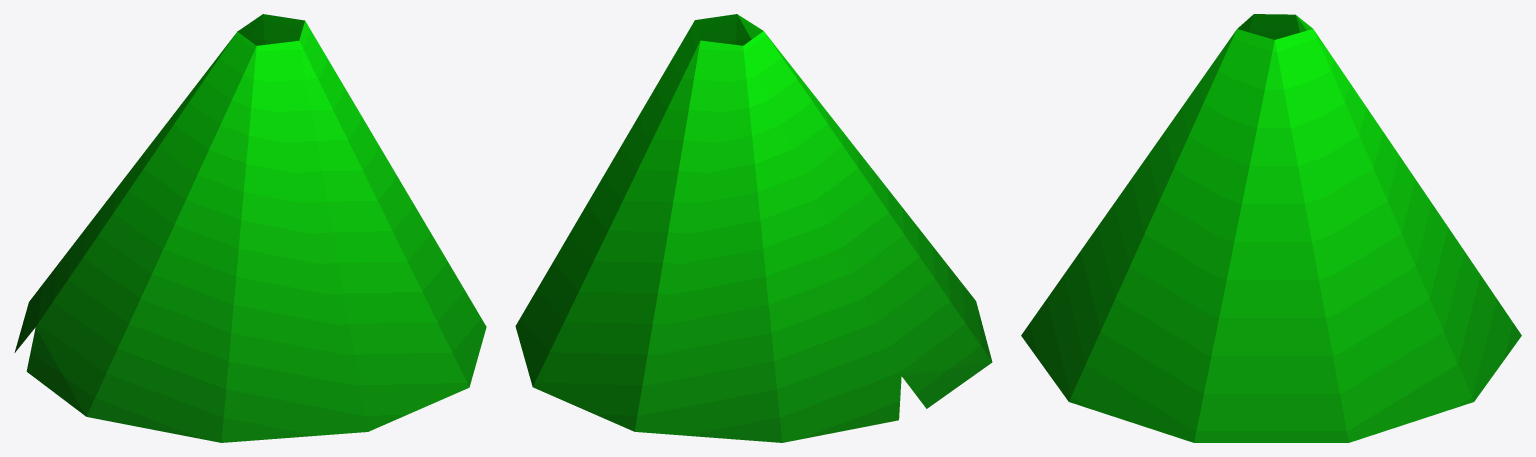
File: Prefab_Foliage_Tree_Pine_Leaves_E.glb
The picture shows the model from 3 angles, left to right: view 1: azimuth 30°, elevation 25°; view 2: azimuth 150°, elevation 25°; view 3: azimuth 270°, elevation 25°; orthographic projection. The views are drawn at different scales.
Visible parts, largest first — view 1: PineTree_B_Trunk.010; view 2: PineTree_B_Trunk.010; view 3: PineTree_B_Trunk.010.
Part boxes in pixels (left/top/right/bottom): PineTree_B_Trunk.010: left=14, top=14, right=486, bottom=442; PineTree_B_Trunk.010: left=515, top=14, right=992, bottom=442; PineTree_B_Trunk.010: left=1021, top=14, right=1521, bottom=442.
Size of the model in its own units: 5.12 by 3.83 by 5.27.
Materials: 1 (1 with a texture image).
